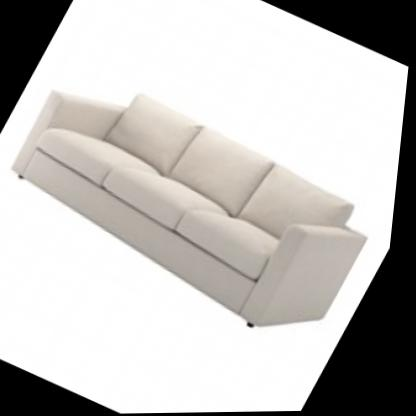Sofa: (0, 28, 413, 373)
